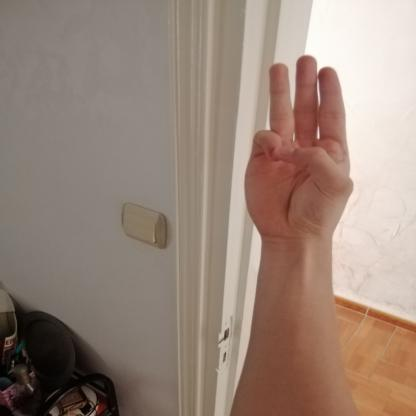THA: (228, 44, 374, 249)
